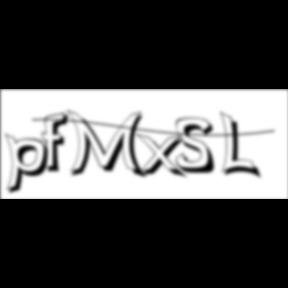L: (221, 110, 265, 182)
M: (66, 108, 150, 181)
S: (176, 117, 222, 176)
f: (42, 111, 74, 175)
p: (5, 132, 55, 198)
x: (136, 132, 190, 181)
